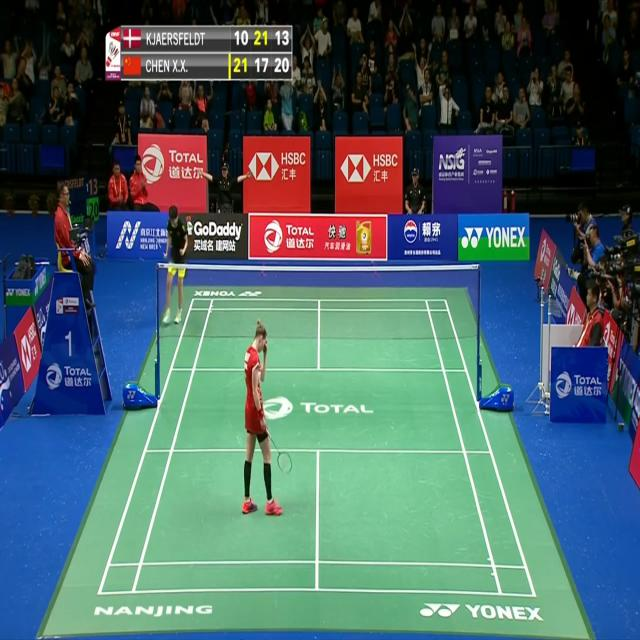Player1: (239, 321, 293, 516)
Player2: (163, 204, 190, 324)
